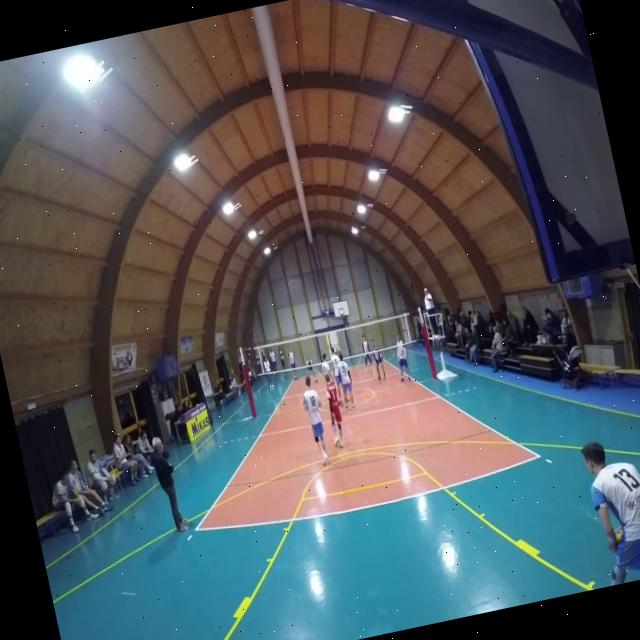serve: (567, 424, 640, 588)
